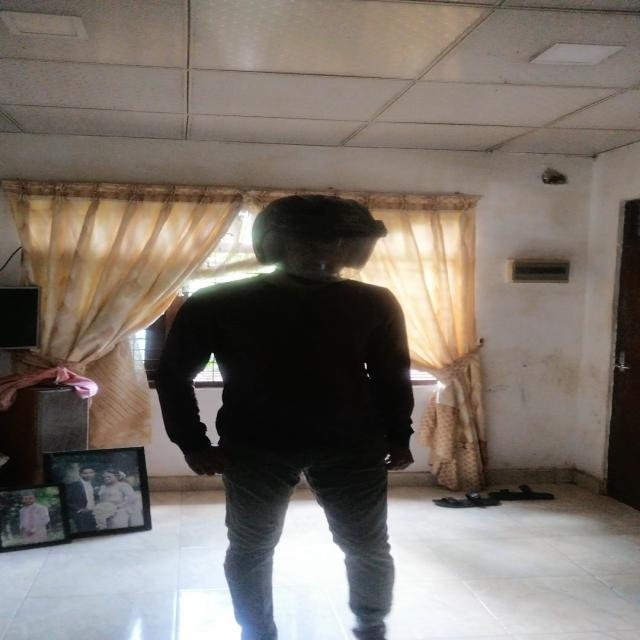Helmet_Wearer: (224, 187, 391, 300)
Person: (154, 194, 436, 639)
